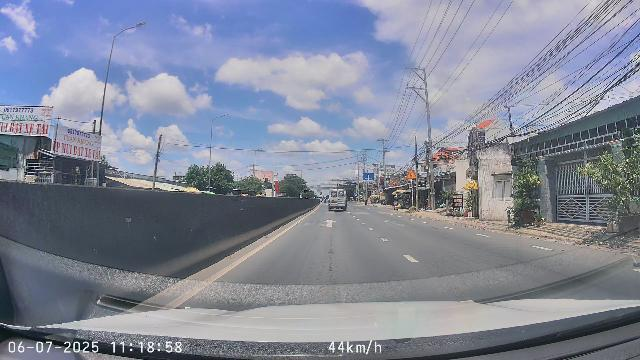209-giao-nhau-co-tin-hieu-den: (406, 168, 416, 179)
